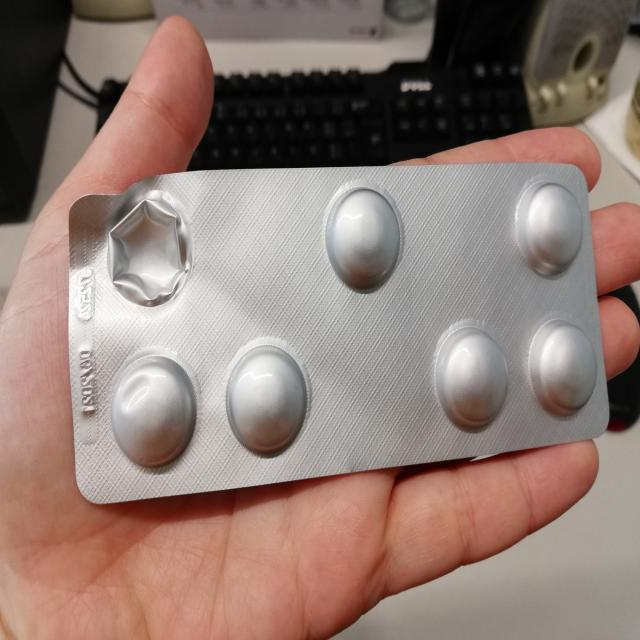Empty: (103, 196, 194, 308)
Pill: (108, 347, 204, 474), (220, 339, 313, 460), (428, 318, 516, 432), (322, 184, 406, 296), (526, 316, 601, 420), (514, 173, 586, 281)
